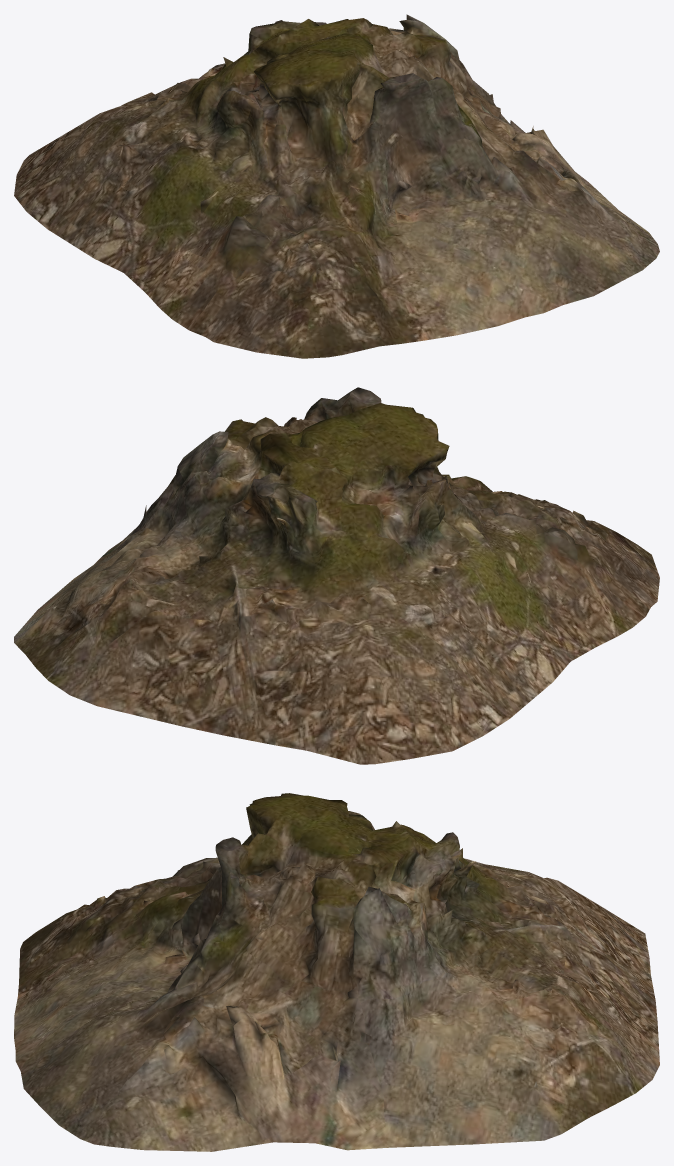
The model's file is tree_stump_01.glb.
3 views of the same model, one above another, from view 1: azimuth 30°, elevation 25°; view 2: azimuth 150°, elevation 25°; view 3: azimuth 270°, elevation 25° (orthographic). The views are drawn at different scales.
Parts seen in each view (by area): view 1: tree_stump_01; view 2: tree_stump_01; view 3: tree_stump_01.
Boxes of the visible parts, box(x1,y1,x2,y2) form: tree_stump_01: box(14, 14, 659, 358); tree_stump_01: box(14, 387, 659, 764); tree_stump_01: box(14, 793, 659, 1151).
Size of the model in its own units: 1.43 by 0.571 by 1.59.
Materials: 1 (1 with a texture image).
